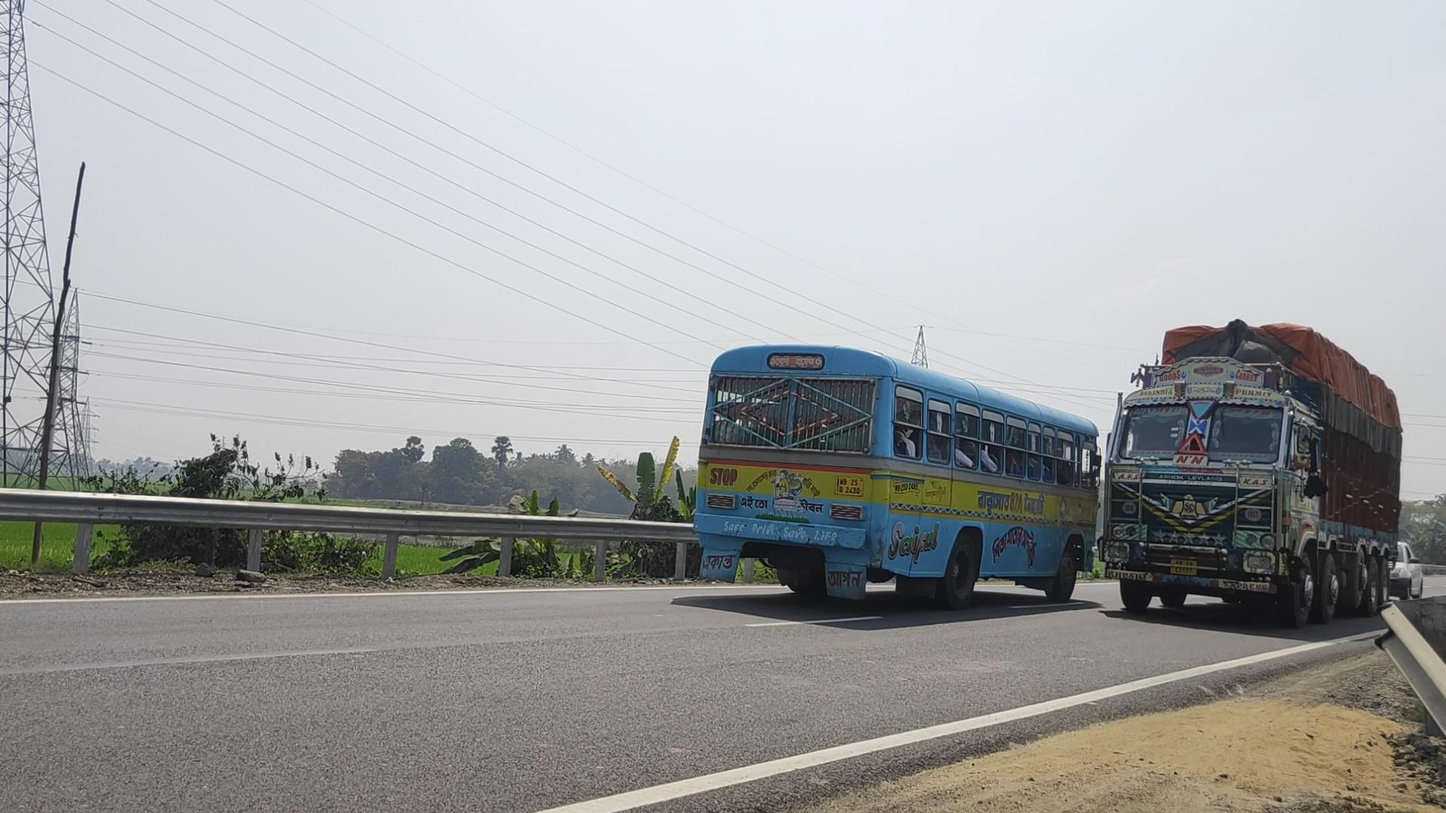Bus: (691, 343, 1102, 609)
car: (1390, 540, 1425, 606)
truck: (1101, 322, 1402, 627)
